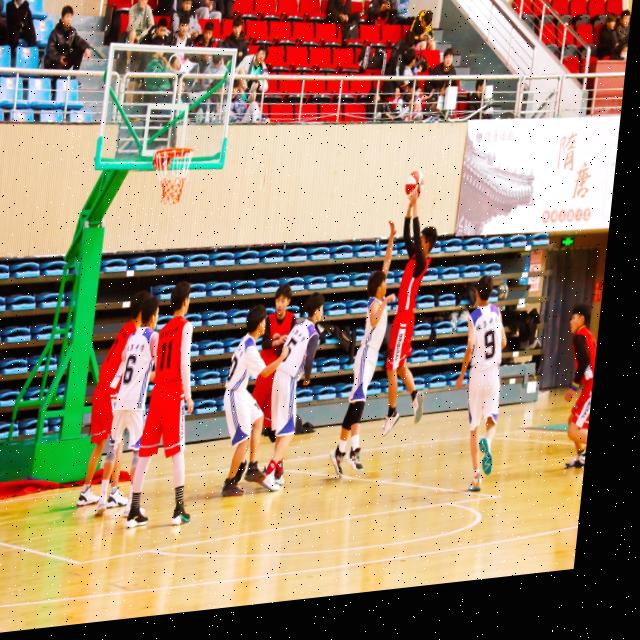basketball: (403, 168, 425, 199)
hoop: (150, 145, 196, 207)
